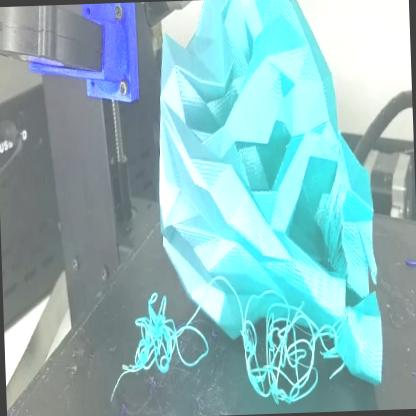fail: (239, 278, 343, 415), (109, 276, 211, 406)
